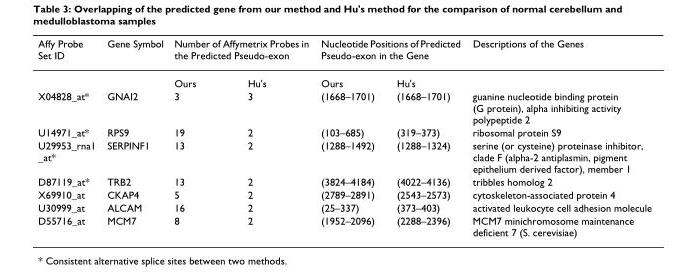table: (37, 37, 651, 237)
table column: (465, 37, 651, 237), (221, 37, 314, 237), (384, 37, 465, 237), (314, 37, 384, 237), (100, 37, 168, 237), (37, 37, 100, 237), (168, 37, 221, 237)
table column header: (37, 37, 651, 89)
table row: (37, 89, 651, 125), (37, 138, 651, 174), (37, 37, 651, 68), (37, 213, 651, 237), (37, 68, 651, 89), (37, 125, 651, 138), (37, 174, 651, 187), (37, 187, 651, 200), (37, 200, 651, 213)
table spanning cell: (465, 37, 651, 89), (314, 37, 465, 68), (168, 37, 314, 68), (100, 37, 168, 89), (37, 37, 100, 89)
